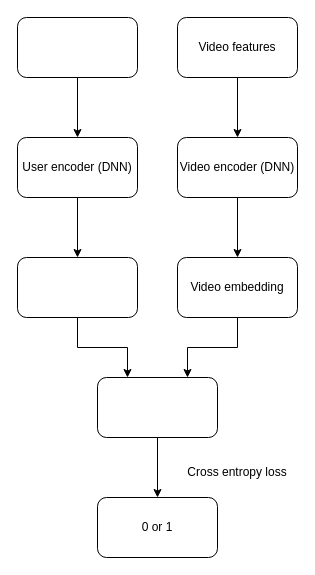
The diagram is 315 pixels wide and 575 high, and some of its shapes have lost their labels. Here are the shapes that lost their labels. From the top down, the centre of each, then its label:
At pixel 77 47: "User features".
At pixel 77 287: "User embedding".
At pixel 157 407: "Dot product".
